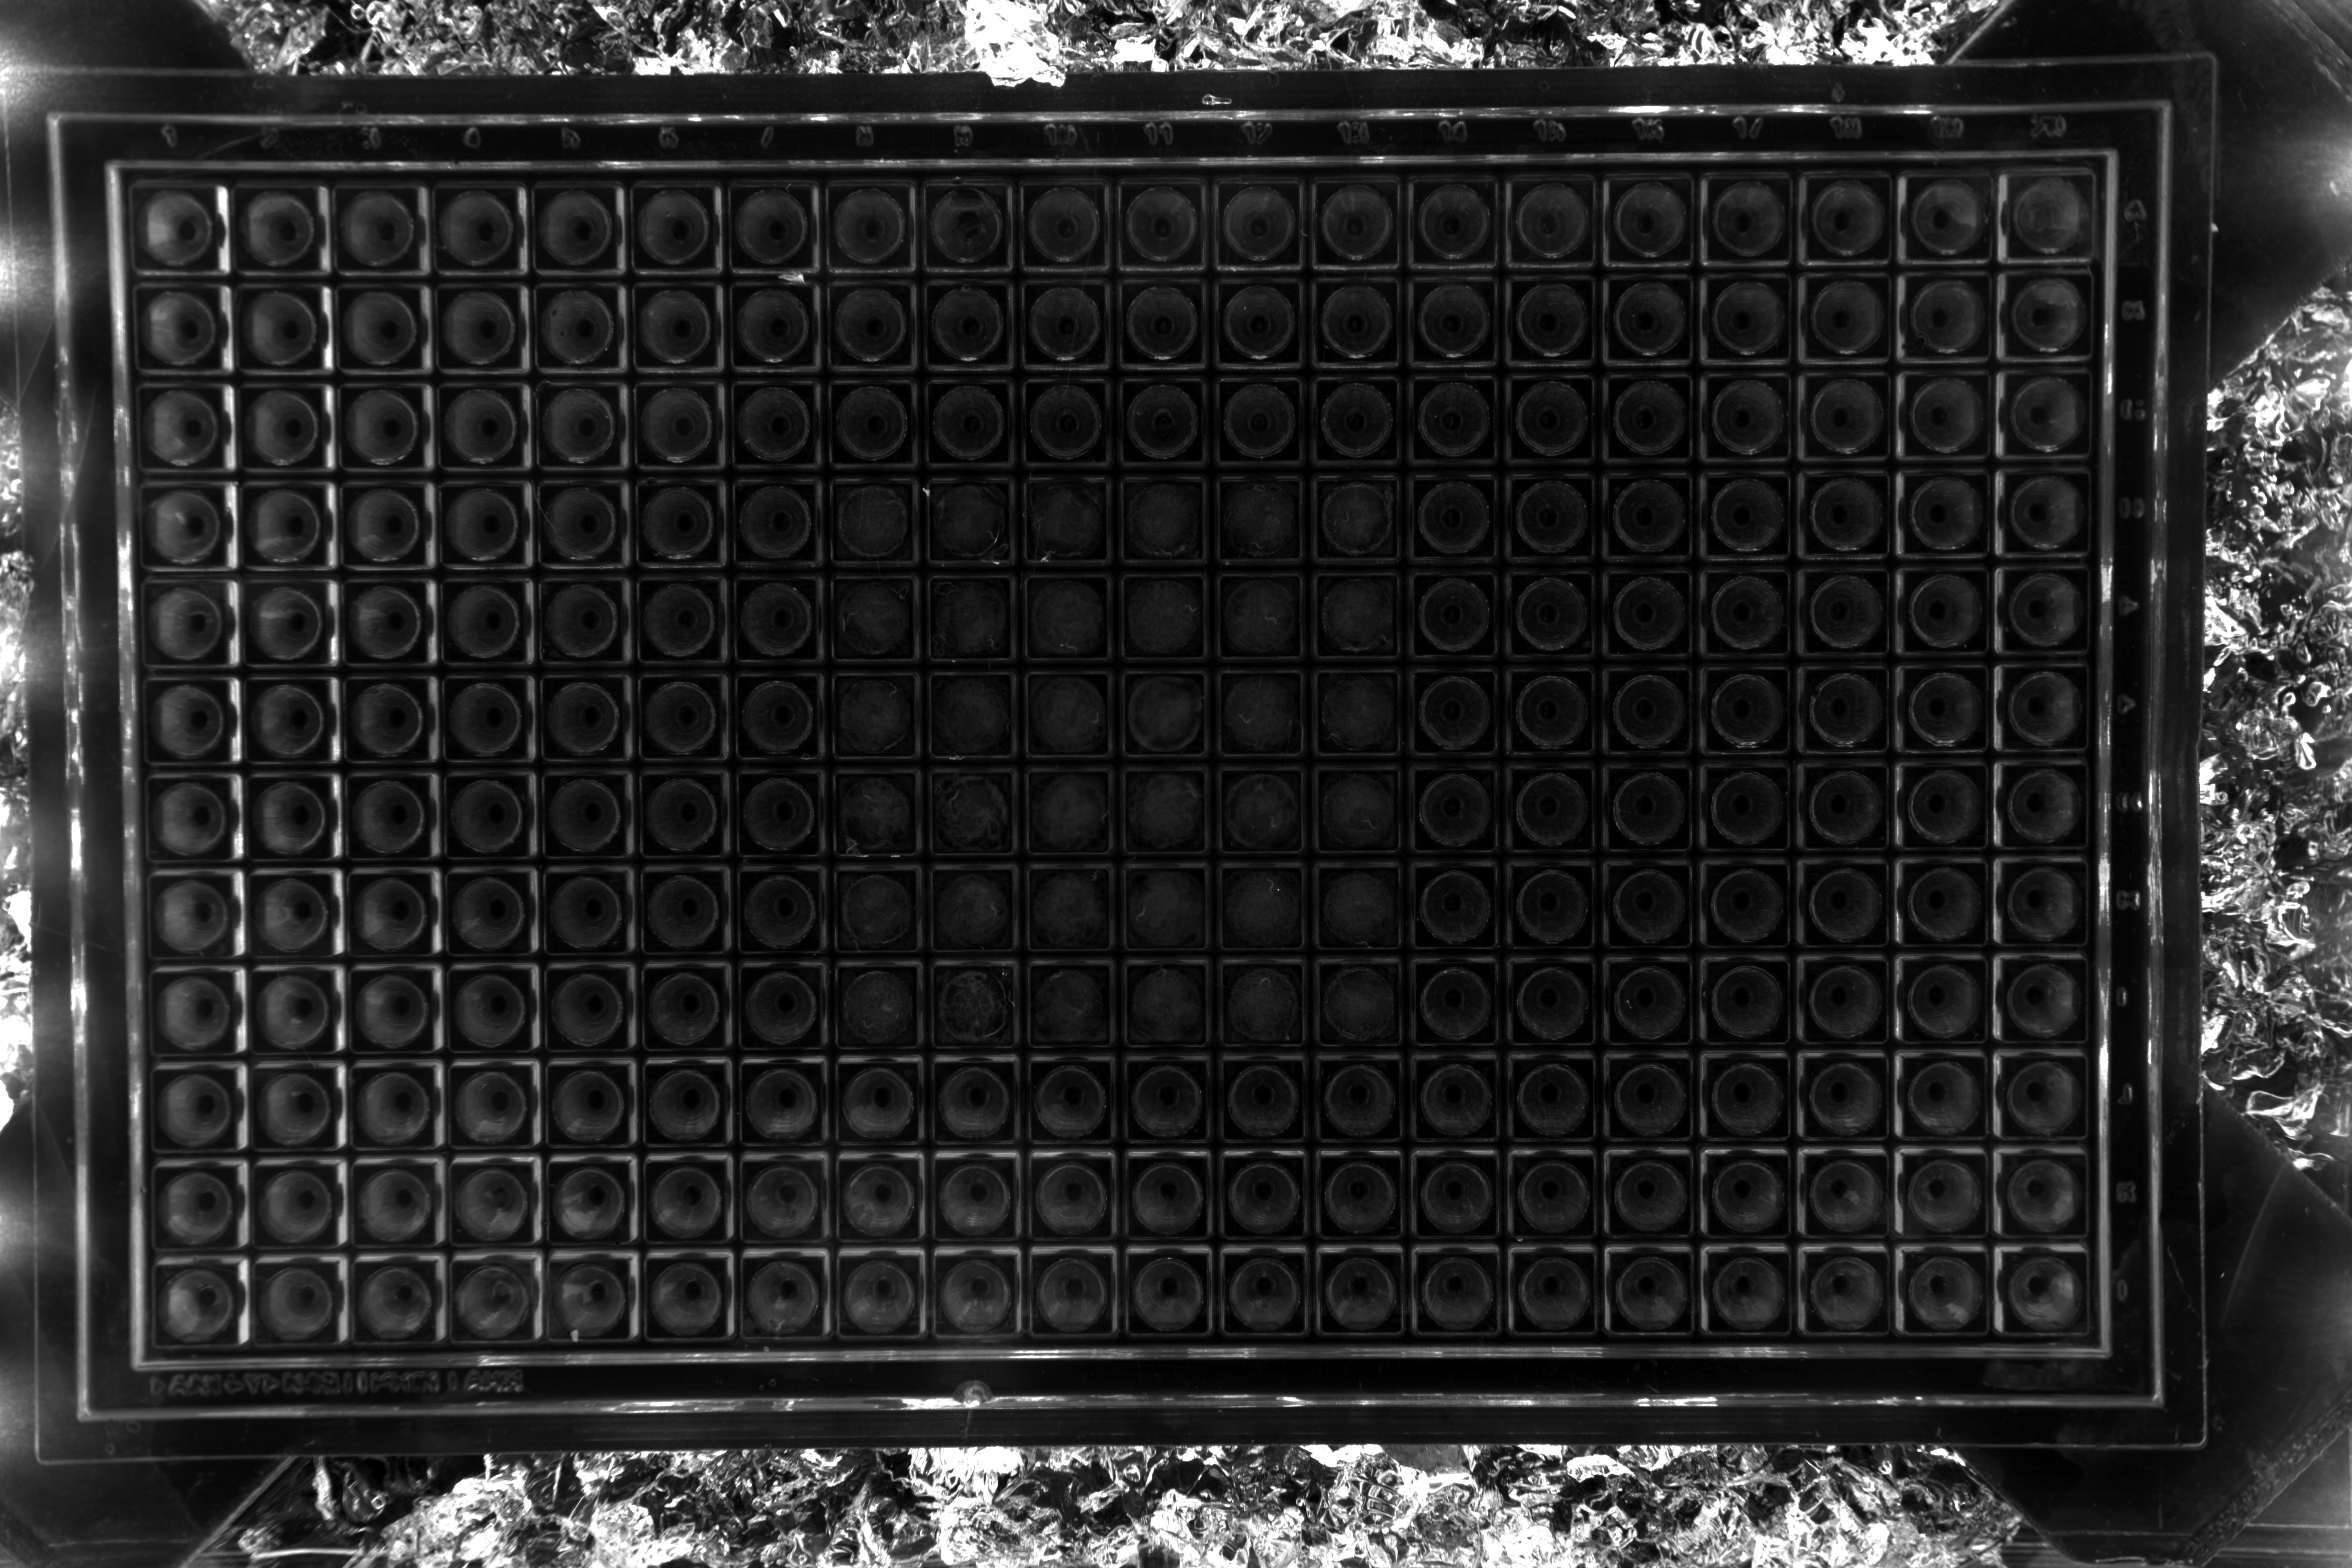WM_well: (397, 633, 486, 721), (689, 534, 779, 621), (789, 1213, 878, 1300), (199, 535, 287, 623), (205, 1120, 292, 1207), (303, 926, 390, 1013), (303, 1120, 390, 1207), (486, 140, 574, 227), (499, 1020, 586, 1108), (595, 826, 682, 913), (686, 240, 773, 327), (789, 824, 877, 912), (884, 338, 971, 425), (980, 142, 1067, 229), (1272, 920, 1360, 1008), (1370, 532, 1458, 619), (1466, 726, 1554, 814), (1468, 532, 1556, 619), (1470, 138, 1557, 226), (1764, 331, 1851, 418), (1858, 920, 1946, 1008), (2060, 625, 2147, 712), (2061, 427, 2149, 514)
